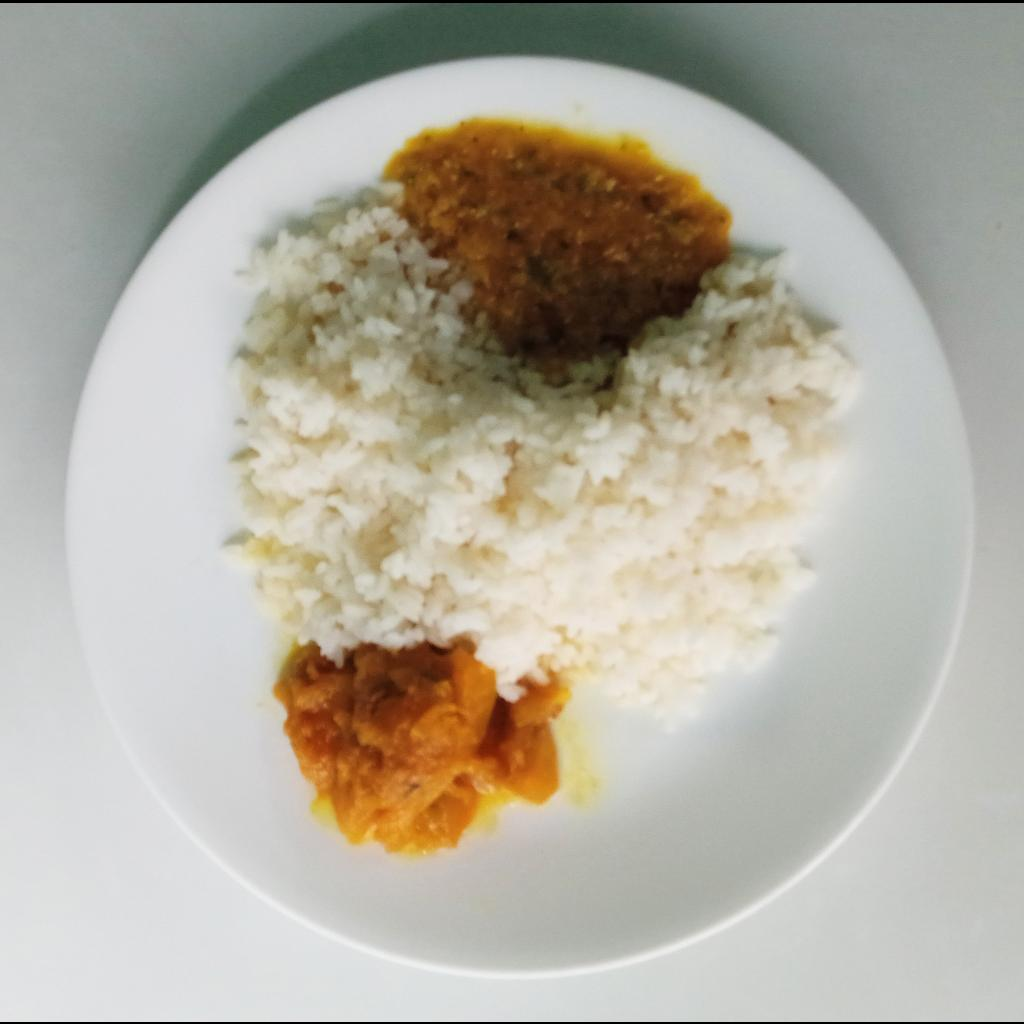daal: (390, 122, 736, 348)
kumra-vaji: (272, 636, 570, 856)
rice: (224, 202, 865, 718)
